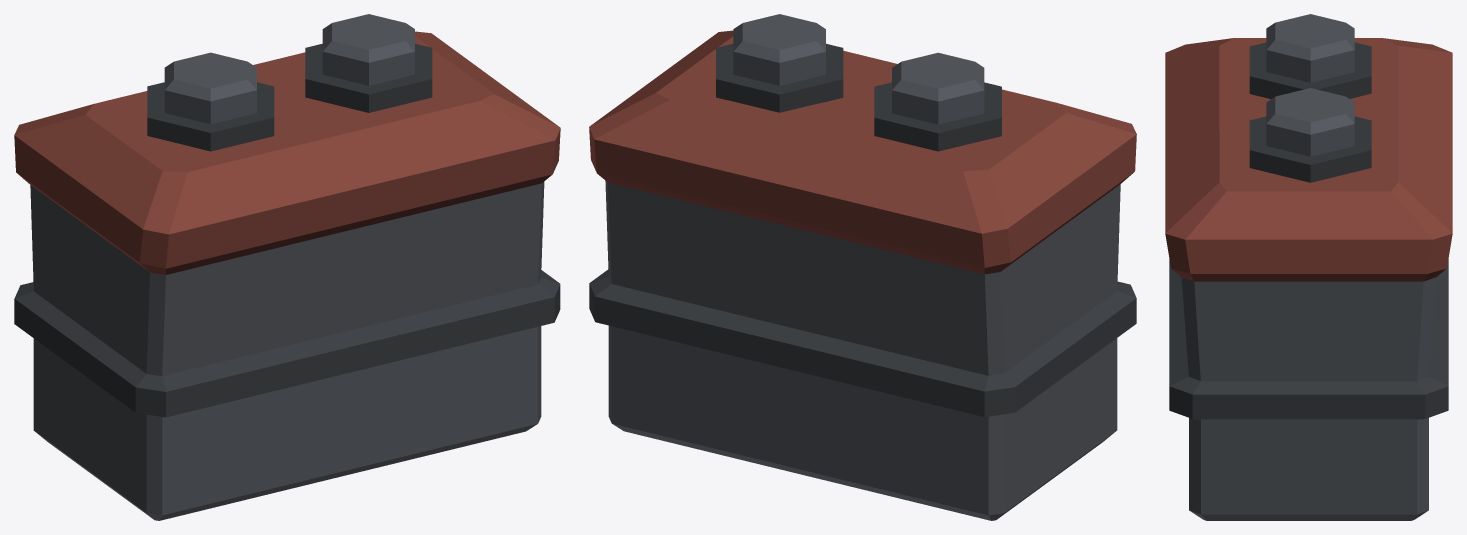
The model's file is SM_Veh_Kart_01_Engine_02.fbx.
The picture shows the model from 3 angles, left to right: view 1: azimuth 30°, elevation 25°; view 2: azimuth 150°, elevation 25°; view 3: azimuth 270°, elevation 25°; orthographic projection. The views are drawn at different scales.
Parts seen in each view (by area): view 1: SM_Veh_Kart_01_Engine_02; view 2: SM_Veh_Kart_01_Engine_02; view 3: SM_Veh_Kart_01_Engine_02.
Part boxes in pixels (x1,y1,x2,y2): SM_Veh_Kart_01_Engine_02: [14, 14, 560, 520]; SM_Veh_Kart_01_Engine_02: [589, 14, 1136, 520]; SM_Veh_Kart_01_Engine_02: [1165, 14, 1452, 520].
Bounding box in the file's own units: 45.59 × 39.3 × 27.89.
